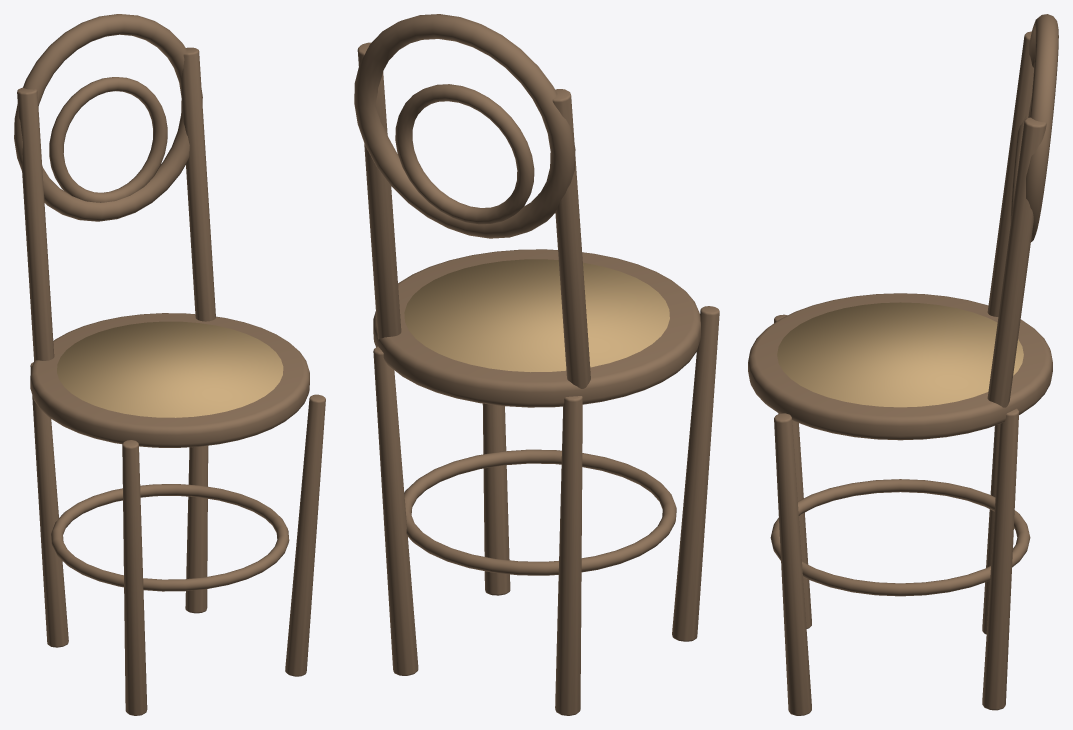
The model's file is chaise_vieille.glb.
3 renders of one model, left to right at view 1: azimuth 30°, elevation 25°; view 2: azimuth 150°, elevation 25°; view 3: azimuth 270°, elevation 25°, orthographic. The views are drawn at different scales.
Visible parts, largest first — view 1: cannage, assise, dossier, cerceau, montant-0.14, pied1, montant0.14, pied0, dossier_int, pied2, pied3; view 2: cannage, assise, dossier, cerceau, pied0, pied3, pied2, dossier_int, montant-0.14, montant0.14, pied1; view 3: cannage, assise, pied1, pied3, cerceau, montant0.14, dossier, montant-0.14, pied0, pied2.
Boxes of the visible parts, x1,y1,x2,y2 form: cannage: (57,321,283,417); assise: (30,313,309,447); dossier: (14,14,202,221); cerceau: (51,484,289,591); montant-0.14: (17,87,54,360); pied1: (285,394,325,676); montant0.14: (180,47,215,321); pied0: (122,440,147,715); dossier_int: (49,77,167,202); pied2: (30,362,68,647); pied3: (185,445,208,613); cannage: (404,259,669,372); assise: (373,249,700,407); dossier: (354,14,575,238); cerceau: (404,449,676,575); pied0: (672,306,719,641); pied3: (373,346,418,675); pied2: (555,396,582,715); dossier_int: (395,84,534,224); montant-0.14: (552,89,590,388); montant0.14: (357,42,401,339); pied1: (482,403,510,595); cannage: (777,302,1023,407); assise: (748,293,1052,440); pied1: (774,413,811,715); pied3: (982,408,1018,710); cerceau: (770,479,1030,596); montant0.14: (987,117,1046,407); dossier: (1010,14,1058,241); montant-0.14: (987,31,1033,316); pied0: (774,314,811,628); pied2: (982,424,1000,634).
Size of the model in its own units: 0.42 by 0.9802 by 0.4282.
